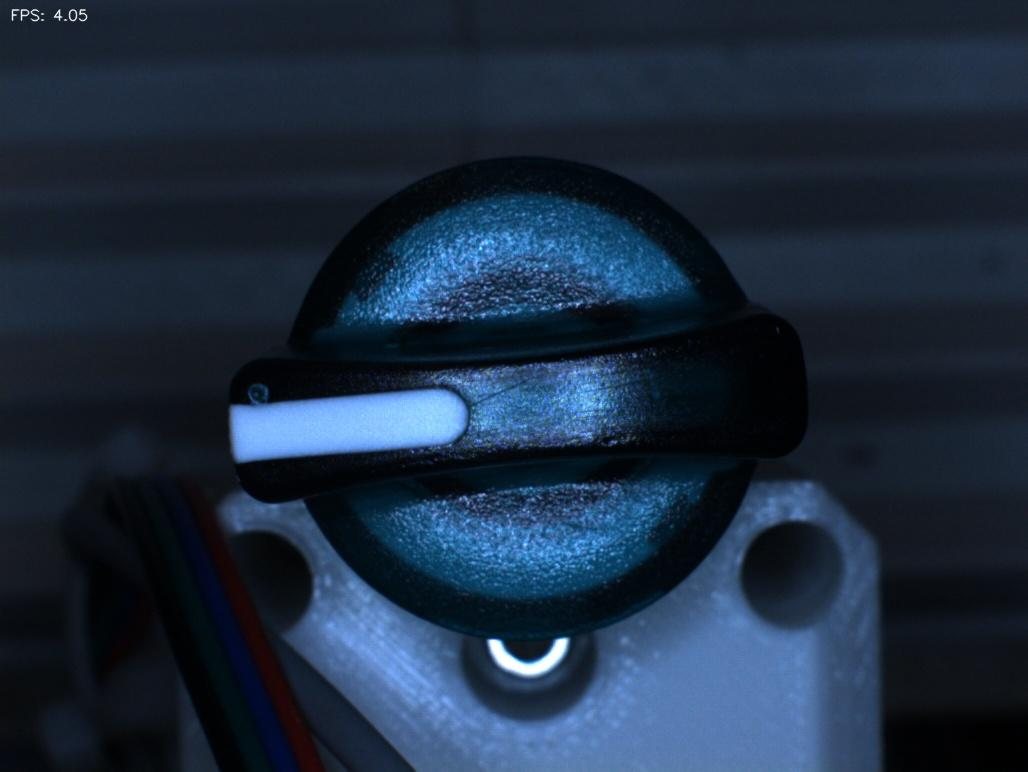Choc: (222, 362, 294, 426)
